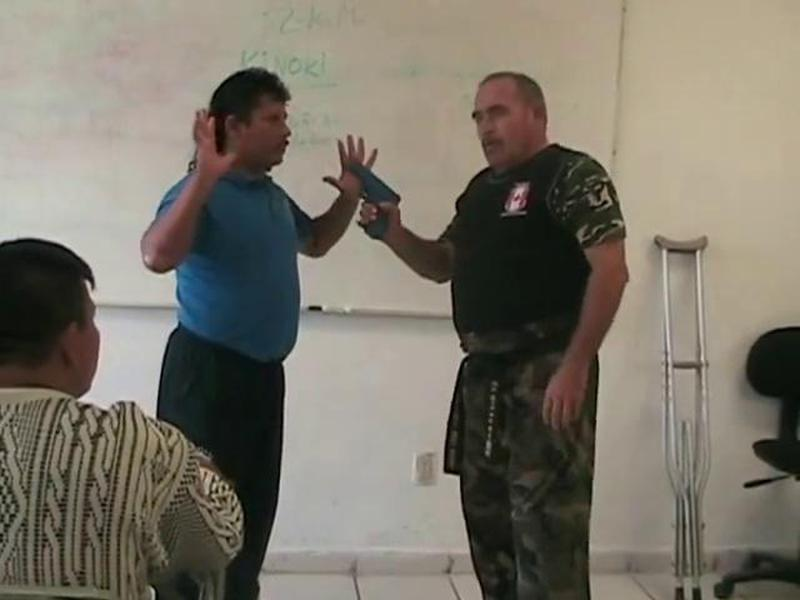Pistola: (347, 149, 420, 263)
